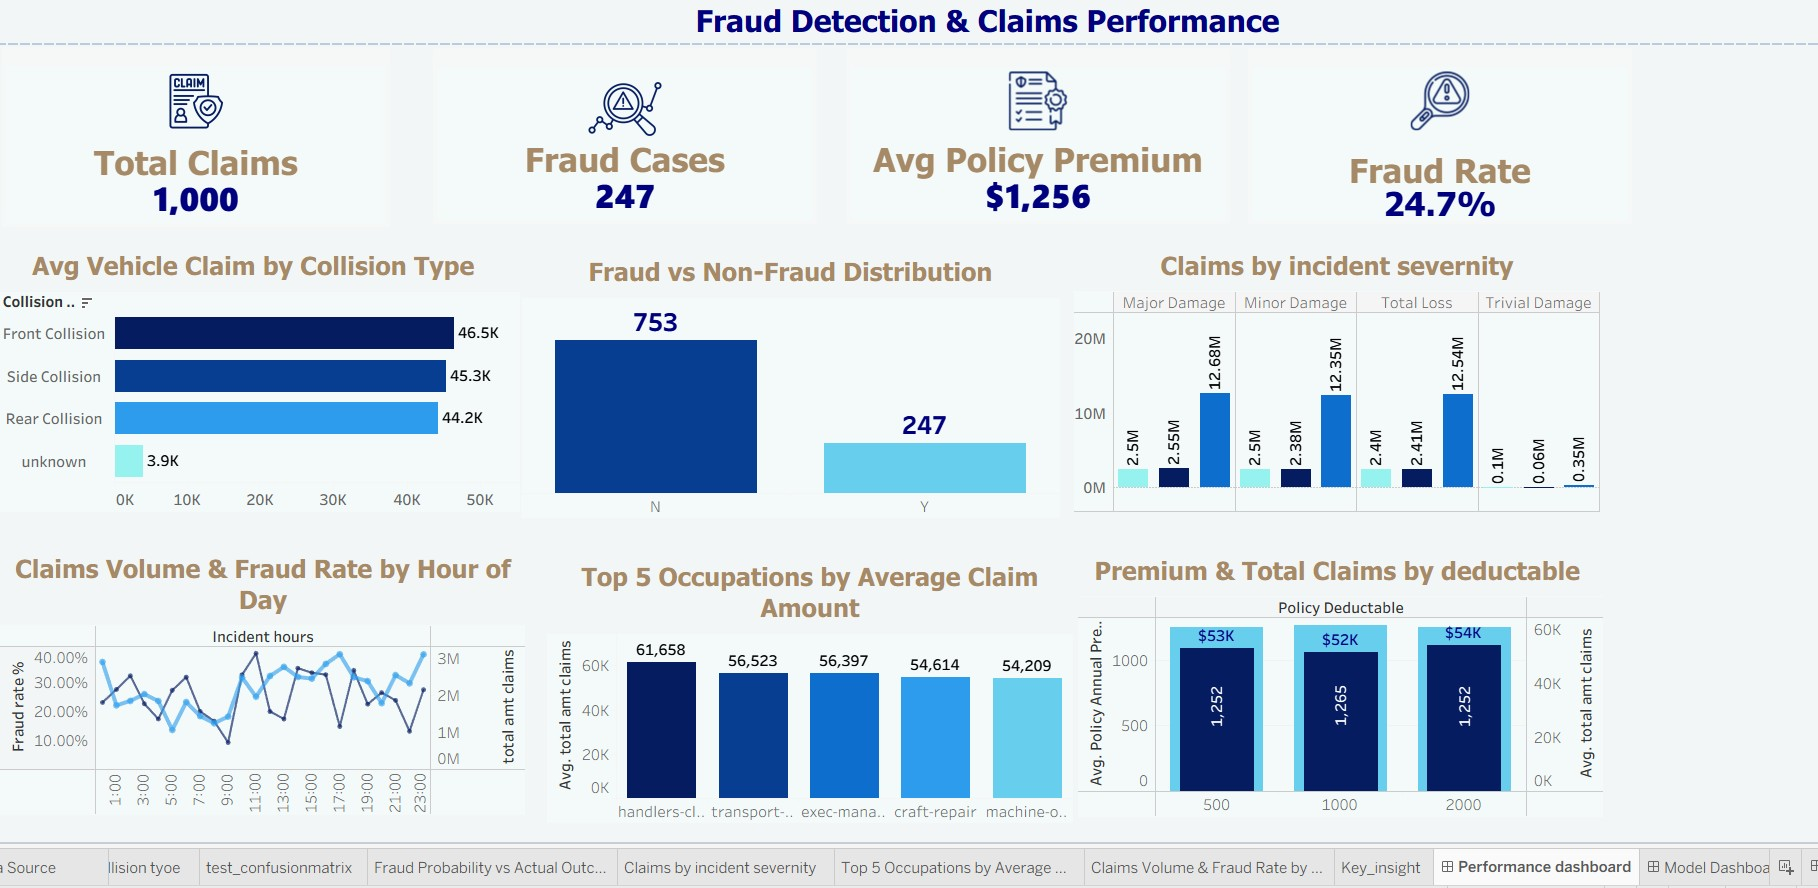

What the dashboard file says about the page in this screenshot:
{"tool":"tableau","page":{"name":"Performance dashboard","canvas":[1700,800],"ordinal":1},"visuals":[{"type":"worksheet","title":"Total_claims KPIs","mark":"Shape","rows":["Calculation_1332943309881352","Calculation_1332943305191430"],"box":[25,51,388,180]},{"type":"worksheet","title":"Fraud_cases KPIs","mark":"Shape","rows":["Calculation_1332943305191430","Calculation_1332943309881352"],"box":[456,52,384,176]},{"type":"worksheet","title":"Avg_policy_premium KPIs","mark":"Shape","rows":["Calculation_1332943305191430","Calculation_1332943309881352"],"box":[869,52,384,176]},{"type":"worksheet","title":"Fraud Rate KPIs","mark":"Shape","rows":["Calculation_1332943305191430","Calculation_1332943309881352"],"box":[1271,52,384,176]},{"type":"worksheet","title":"vehicle claim by collision tyoe","mark":"Bar","rows":["collision_type"],"cols":["vehicle_claim"],"box":[17,250,526,266]},{"type":"worksheet","title":"Claims by incident severnity","mark":"Bar","cols":["incident_severity"],"box":[1097,250,526,266]},{"type":"worksheet","title":"Fraud Distribution","mark":"Automatic","rows":["Actual"],"cols":["fraud_reported"],"box":[544,256,539,266]}]}

Visuals, with their boxes on the page's 1700x800 design canvas (x1, y1, x2, y2). These are canvas units, not pixel positions in the 1818x888 screenshot, which may show the page scaled, cropped or inside an application window:
"Total_claims KPIs" worksheet (Shape marks): crop(25, 51, 413, 231)
"Fraud_cases KPIs" worksheet (Shape marks): crop(456, 52, 840, 228)
"Avg_policy_premium KPIs" worksheet (Shape marks): crop(869, 52, 1253, 228)
"Fraud Rate KPIs" worksheet (Shape marks): crop(1271, 52, 1655, 228)
"vehicle claim by collision tyoe" worksheet (Bar marks): crop(17, 250, 543, 516)
"Claims by incident severnity" worksheet (Bar marks): crop(1097, 250, 1623, 516)
"Fraud Distribution" worksheet: crop(544, 256, 1083, 522)
